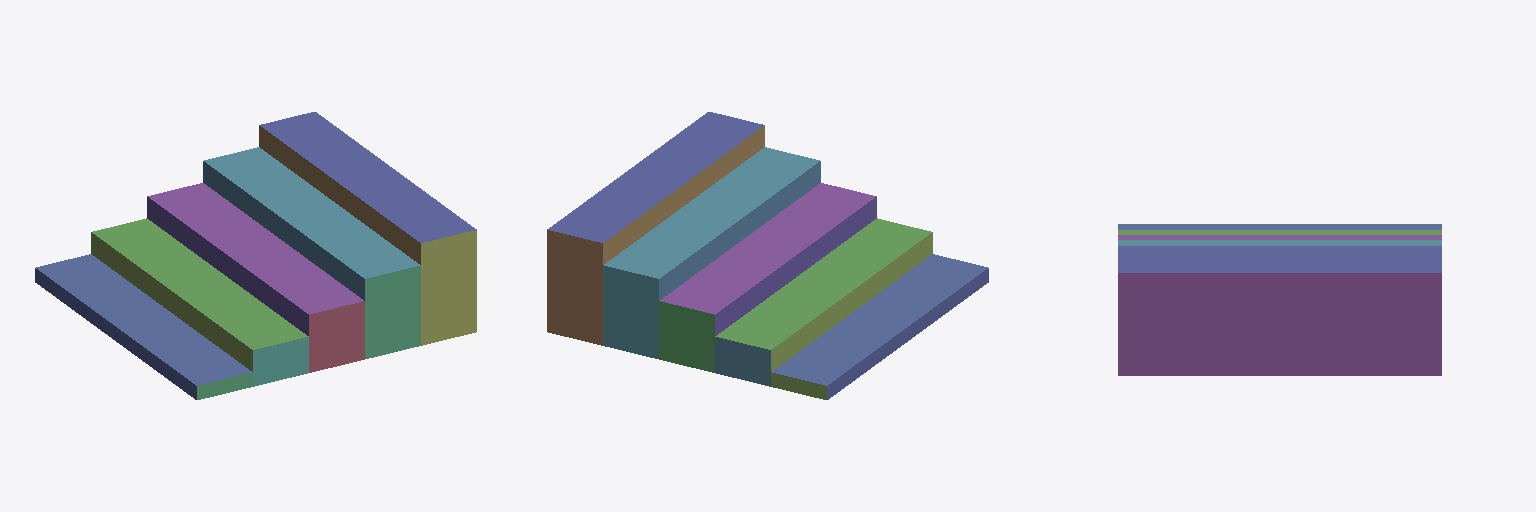
Rendered from meshlab_stairs2_blue.obj.
The picture shows the model from 3 angles: view 1: azimuth 30°, elevation 25°; view 2: azimuth 150°, elevation 25°; view 3: azimuth 270°, elevation 25°; orthographic projection.
Bounding box in the file's own units: 2 × 0.7 × 2.